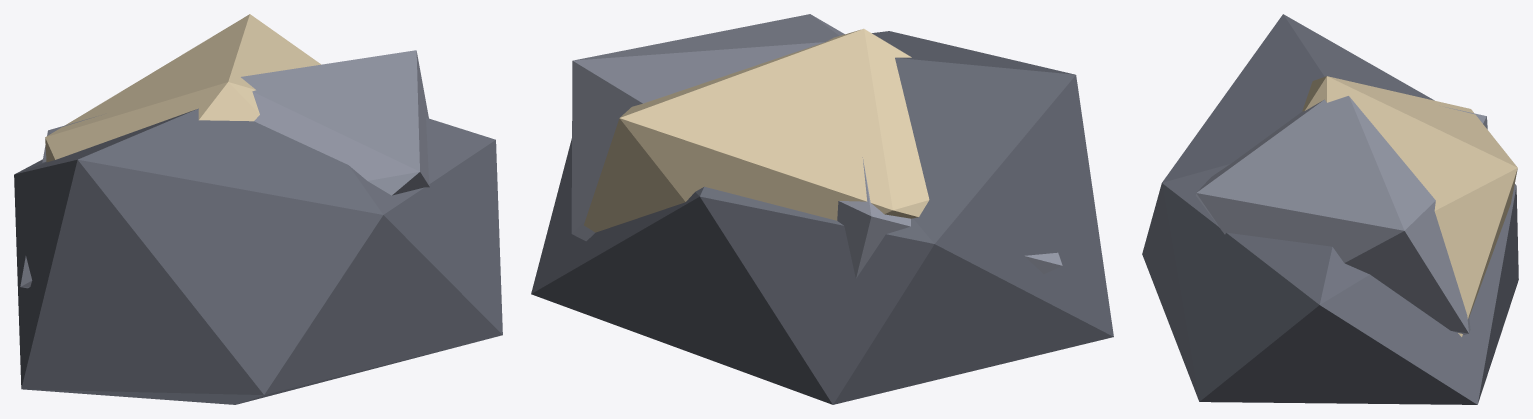
The model's file is debris_stone.glb.
3 views of the same model, side by side, from view 1: azimuth 30°, elevation 25°; view 2: azimuth 150°, elevation 25°; view 3: azimuth 270°, elevation 25° (orthographic). The views are drawn at different scales.
Visible parts, largest first — view 1: chunk_4, chunk_2, chunk_5; view 2: chunk_4, chunk_5, chunk_2; view 3: chunk_4, chunk_2, chunk_5.
Boxes of the visible parts, x1,y1,x2,y2 form: chunk_4: [14, 108, 502, 404]; chunk_2: [20, 50, 429, 288]; chunk_5: [45, 14, 320, 162]; chunk_4: [531, 31, 1113, 404]; chunk_5: [584, 29, 929, 232]; chunk_2: [571, 14, 1062, 278]; chunk_4: [1142, 14, 1518, 404]; chunk_2: [1195, 96, 1487, 334]; chunk_5: [1302, 76, 1517, 336].
Size of the model in its own units: 0.8291 by 0.5473 by 0.6055.
1 material, 1 textured.
